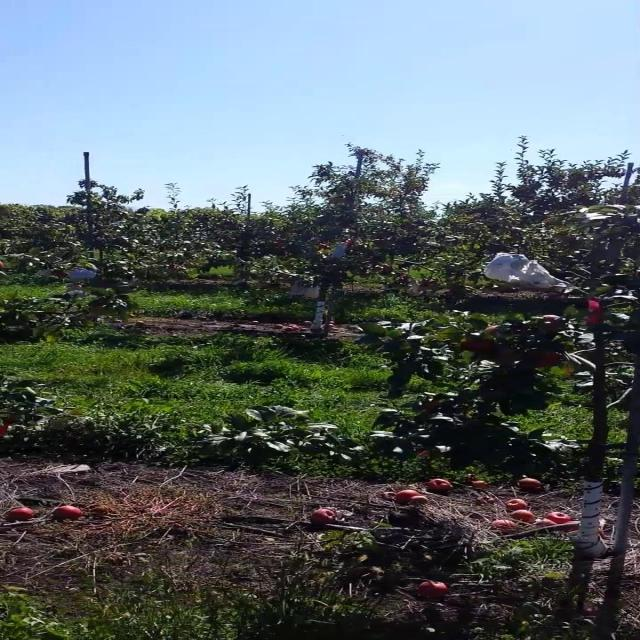apple: (461, 340, 496, 352), (540, 316, 564, 332), (540, 352, 562, 368), (589, 300, 604, 312), (483, 328, 500, 337), (426, 400, 441, 409), (589, 316, 604, 324)
